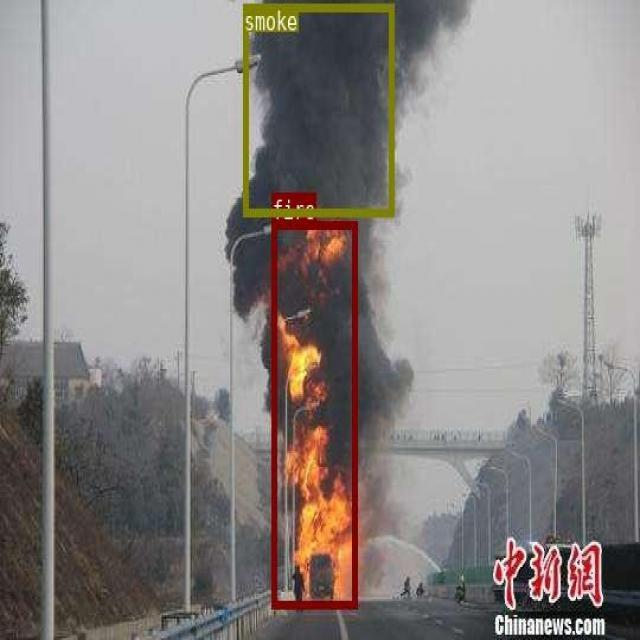fire: (271, 221, 357, 606)
smoke: (242, 3, 392, 214)
